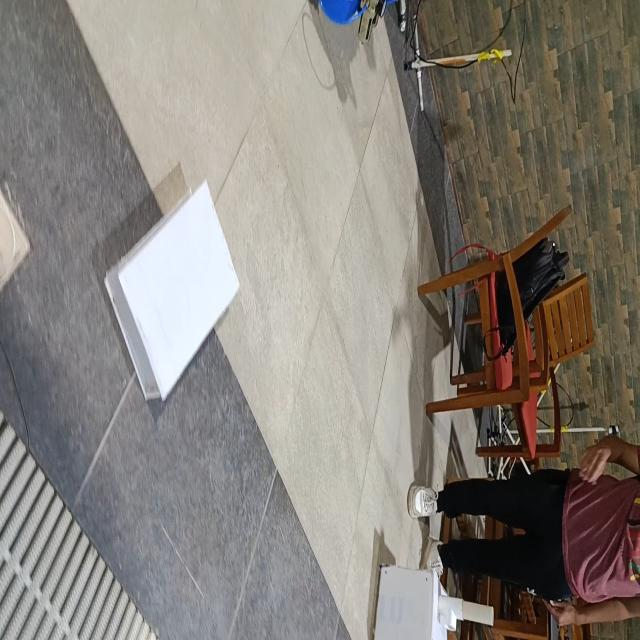Cube: (368, 548, 453, 640)
Cuboid: (103, 177, 240, 403)
